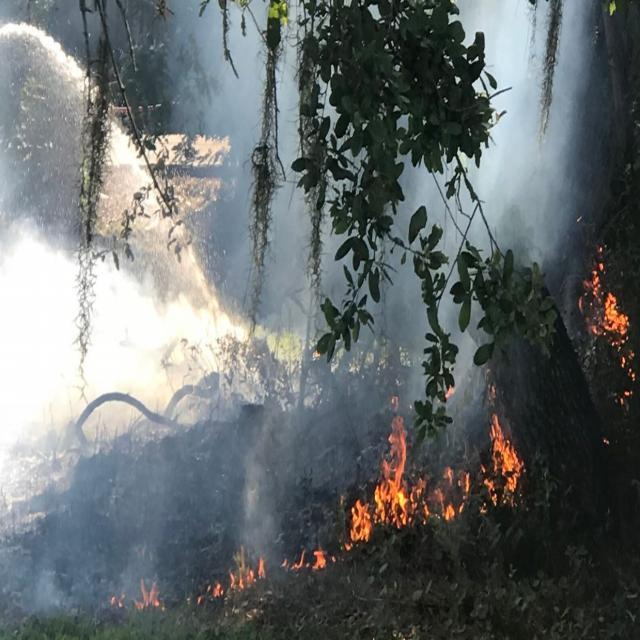Fire: (340, 402, 522, 554), (576, 243, 636, 399), (200, 551, 264, 606), (100, 570, 162, 617), (281, 534, 326, 576)
